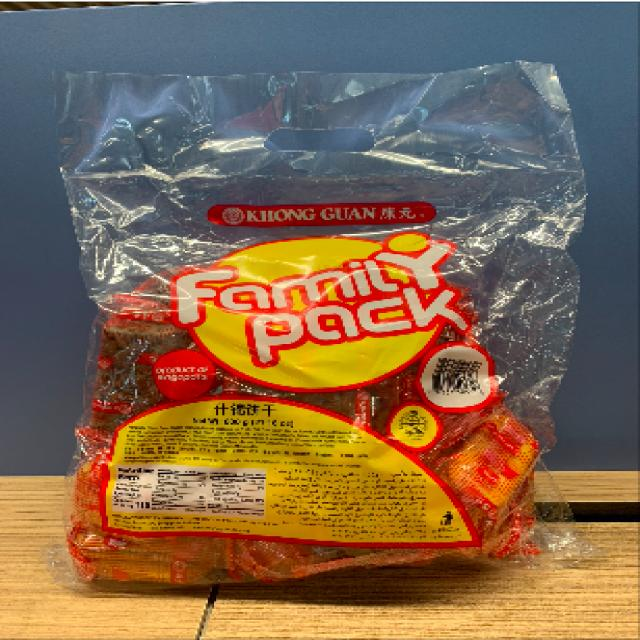object_name: (98, 86, 520, 568)
